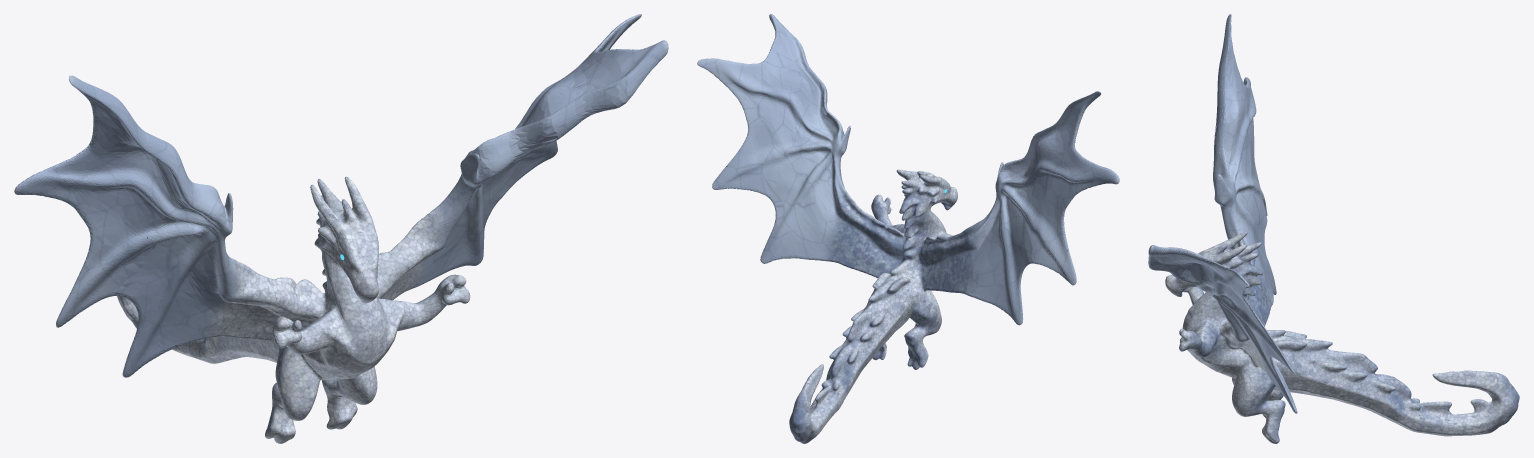
The model's file is dragon-hero.glb.
3 renders of one model, left to right at view 1: azimuth 30°, elevation 25°; view 2: azimuth 150°, elevation 25°; view 3: azimuth 270°, elevation 25°, orthographic. The views are drawn at different scales.
Parts seen in each view (by area): view 1: HeroDragonMesh; view 2: HeroDragonMesh; view 3: HeroDragonMesh.
Part boxes in pixels (bbox=[...]): HeroDragonMesh: bbox=[14, 14, 668, 443]; HeroDragonMesh: bbox=[697, 14, 1119, 443]; HeroDragonMesh: bbox=[1148, 14, 1519, 443].
Bounding box in the file's own units: 1.84 × 1.28 × 1.31.
4 materials, 3 textured.
